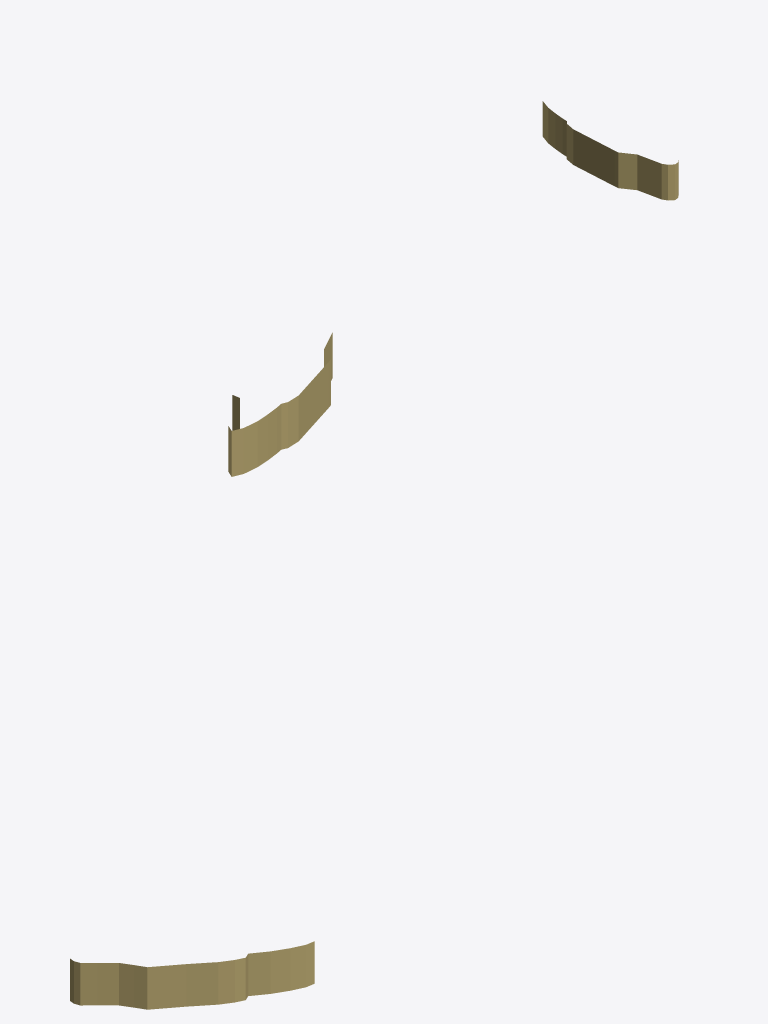
3 views of the same model, one above another, from view 1: azimuth 30°, elevation 25°; view 2: azimuth 150°, elevation 25°; view 3: azimuth 270°, elevation 25° (orthographic). The views are drawn at different scales.
Bounding box in the file's own units: 152 × 12.02 × 189.
